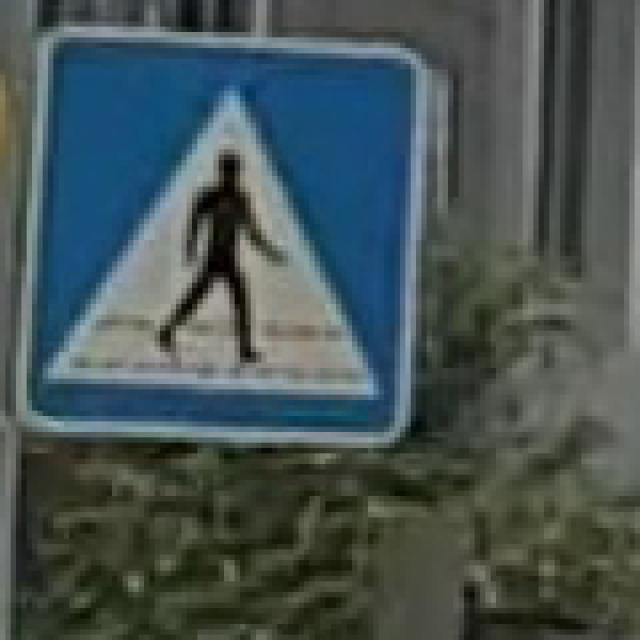zebracrossing_sign: (10, 21, 431, 448)
